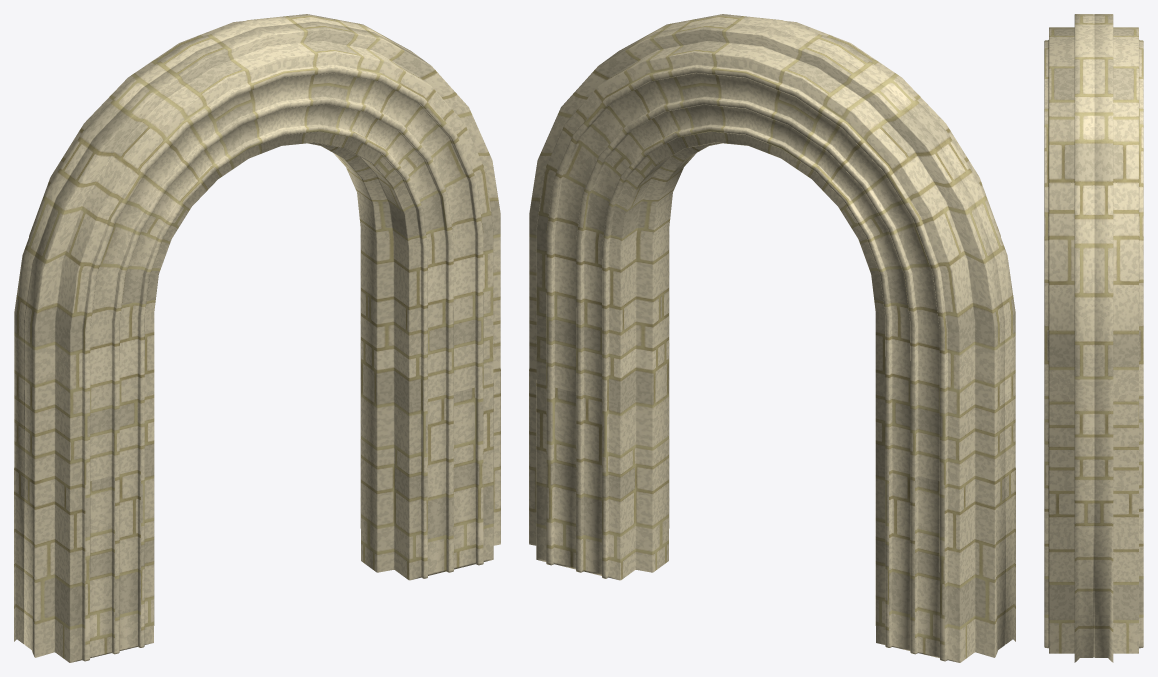
Rendered from Arch.gltf.
The picture shows the model from 3 angles, left to right: view 1: azimuth 30°, elevation 25°; view 2: azimuth 150°, elevation 25°; view 3: azimuth 270°, elevation 25°; orthographic projection. The views are drawn at different scales.
Visible parts, largest first — view 1: Arch; view 2: Arch; view 3: Arch.
Part boxes in pixels (left/top/right/bottom): Arch: left=14, top=14, right=500, bottom=662; Arch: left=529, top=14, right=1015, bottom=662; Arch: left=1044, top=14, right=1143, bottom=662.
Bounding box in the file's own units: 11.02 × 12.78 × 2.2.
1 material, 1 textured.
